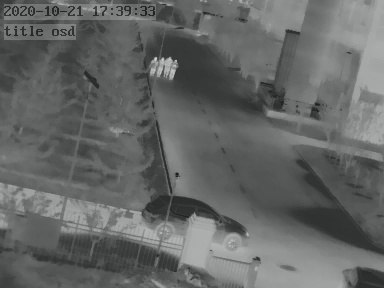person: (148, 54, 159, 77), (169, 58, 178, 79), (162, 57, 171, 77)
vehicle: (141, 193, 250, 250)
